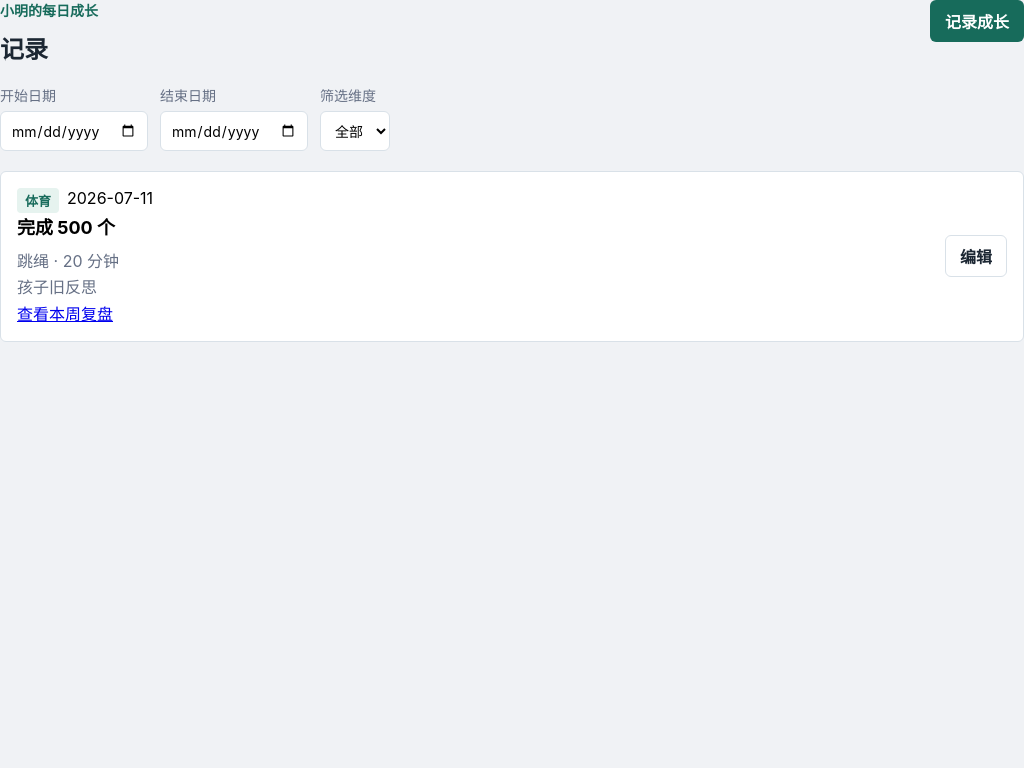
Task 9 growth logs › shows reflection and dated weekly navigation; ordinary editing does not resend an unchanged reflection
Check: the text "孩子旧反思" is shown, box [17,277,97,297]
Click the button with aria-label "编辑 完成 500 个": (976,256) [945,236,1007,278]
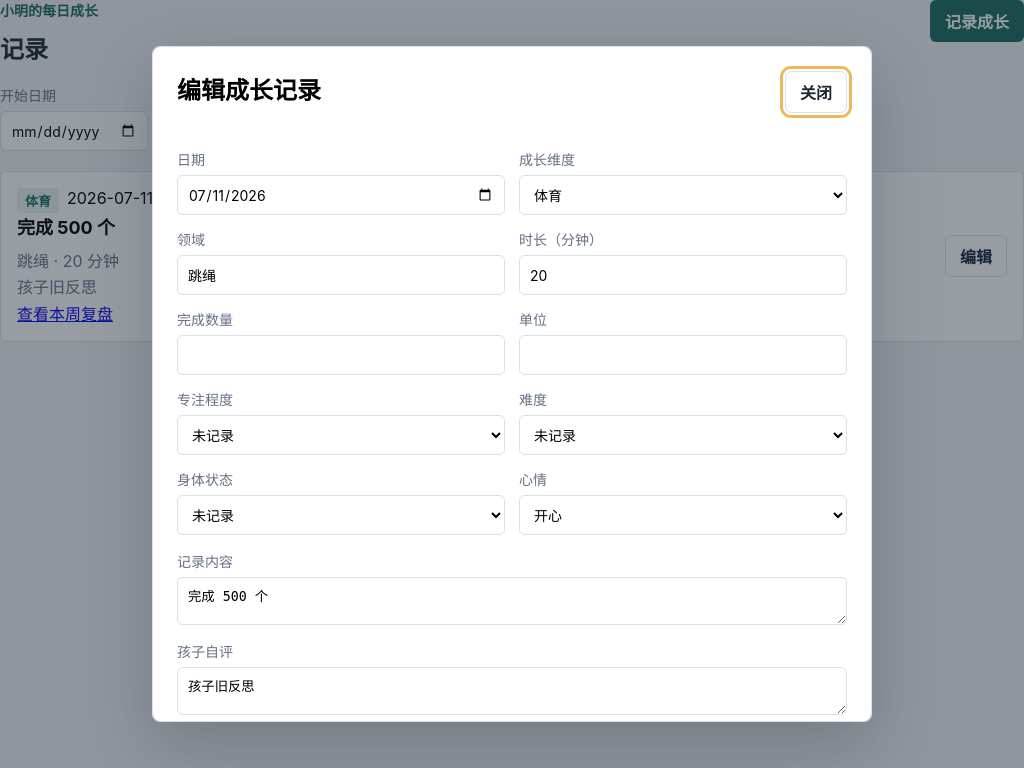
Replace the text in the text box labelled "记录内容" with "调整正文": (512,601) [177,577,847,625]
(page scrolled)
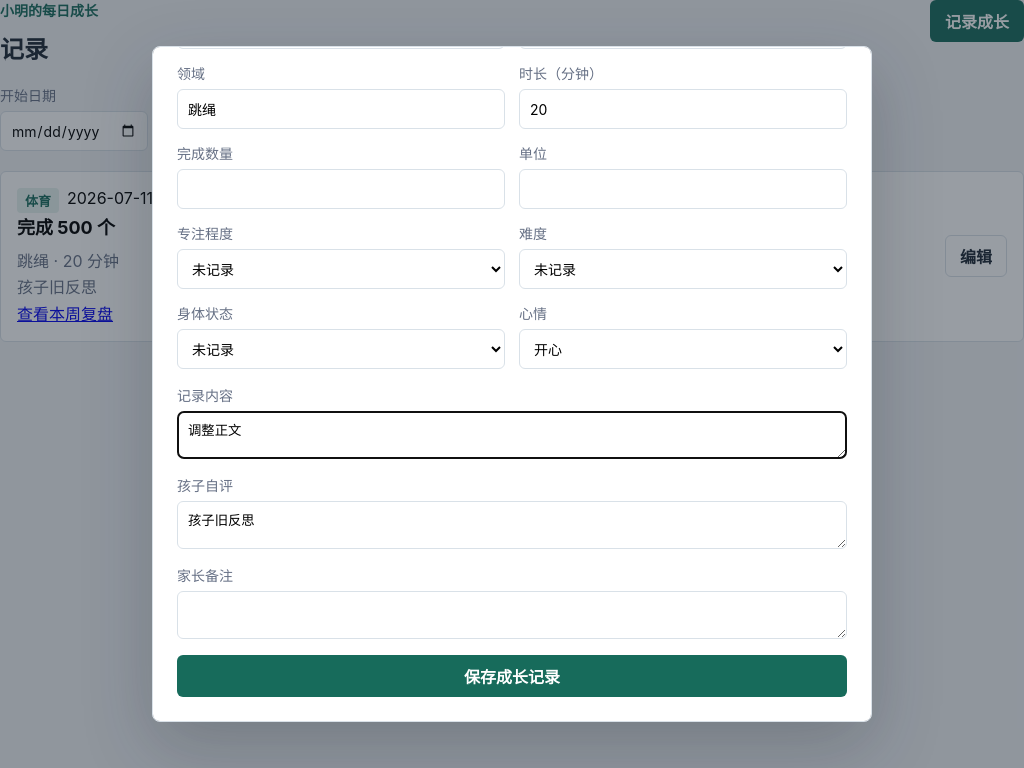
Click the button "保存成长记录": (512,676) [177,655,847,697]
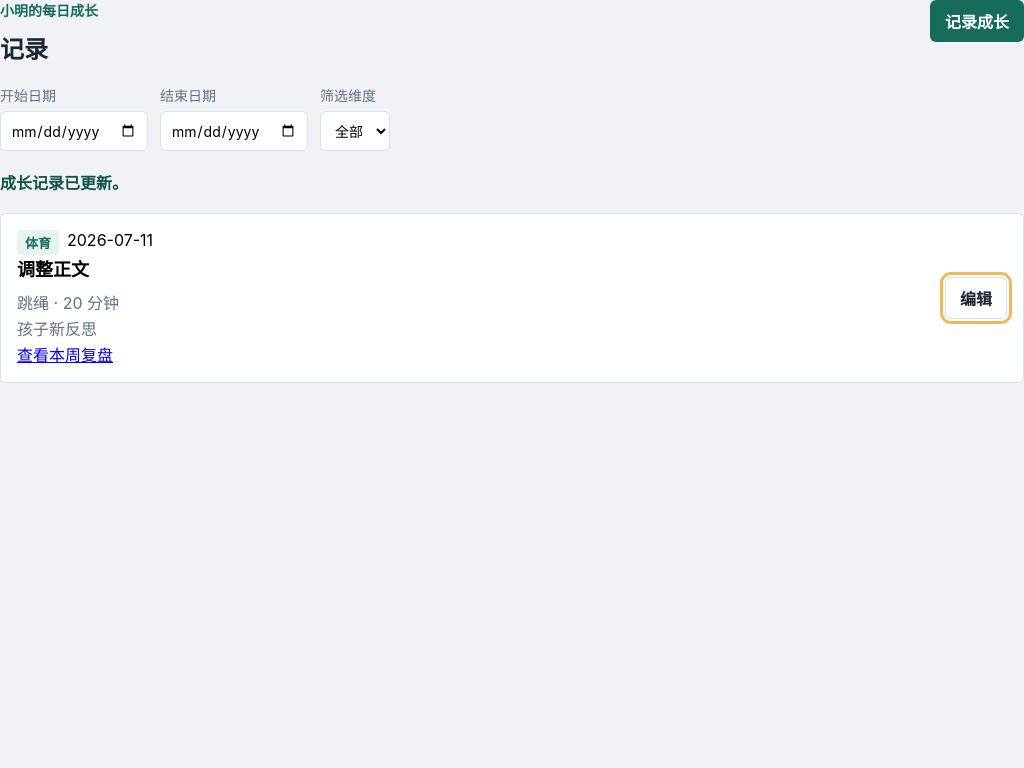
Check: the text "孩子新反思" is shown, box [17,319,97,339]
